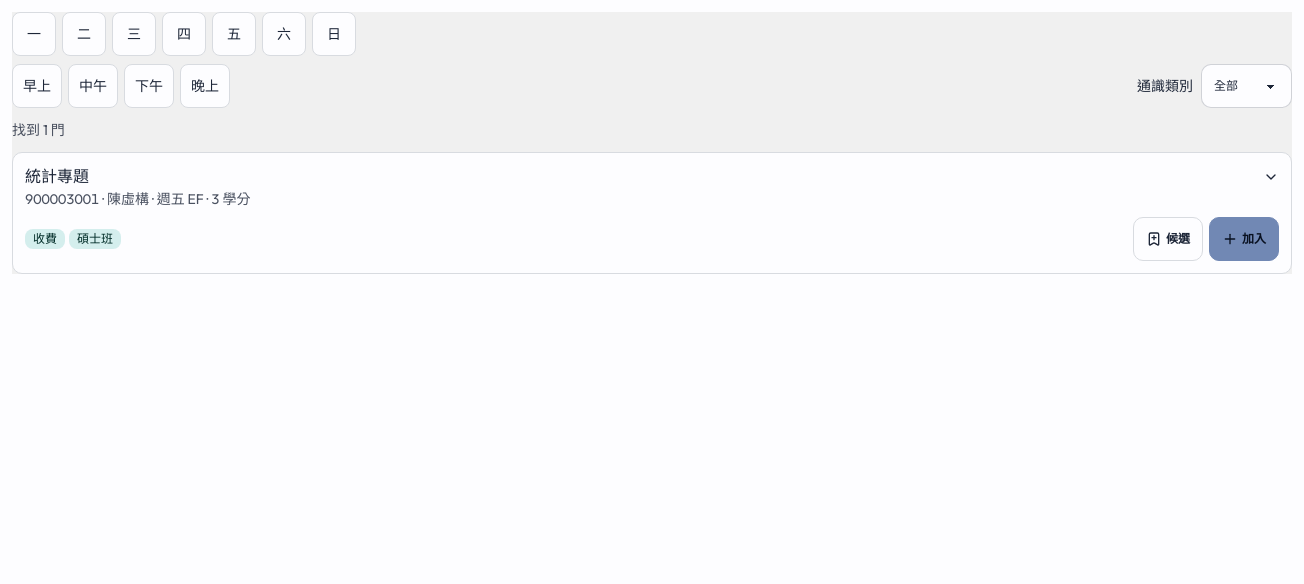
it: SearchPanel › expands official details with safe links
The image size is (1304, 584).
Click the button "統計專題 900003001 · 陳虛構 · 週五 EF · 3 學分": coordinates (57, 176) [25,165,1279,209]
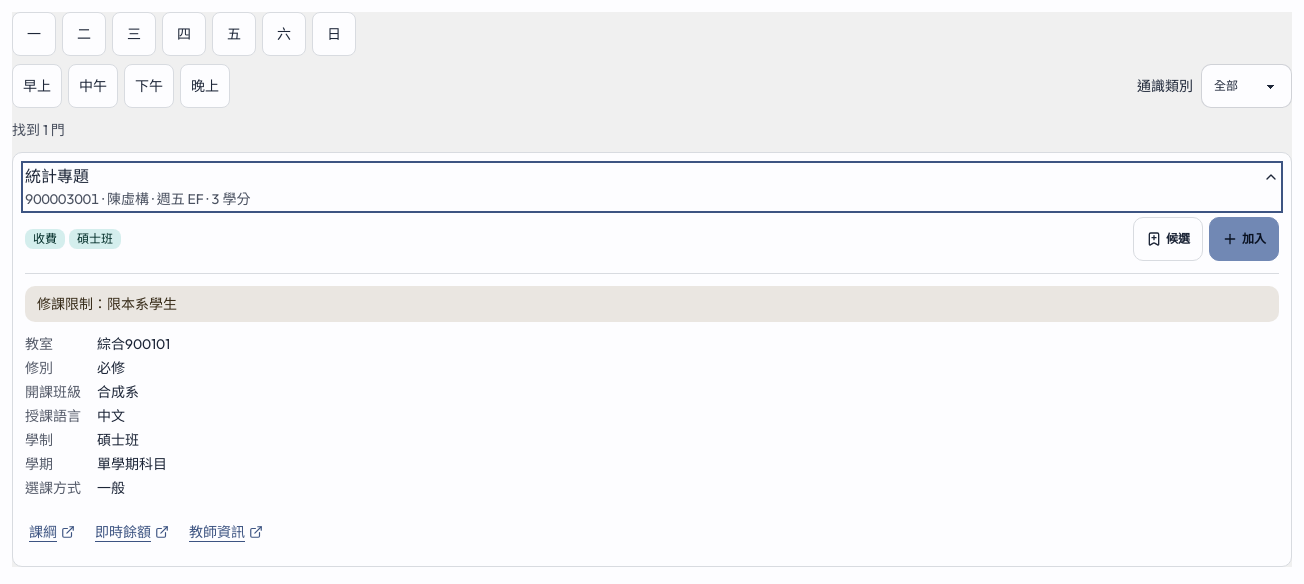
expect the element named "統計專題 詳細資料" shows "限本系學生": met, box [107,295,177,313]
